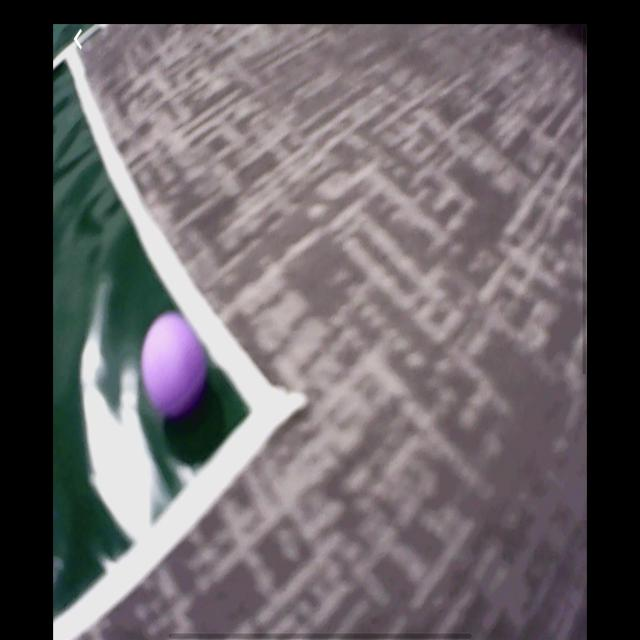ball: (140, 311, 209, 423)
